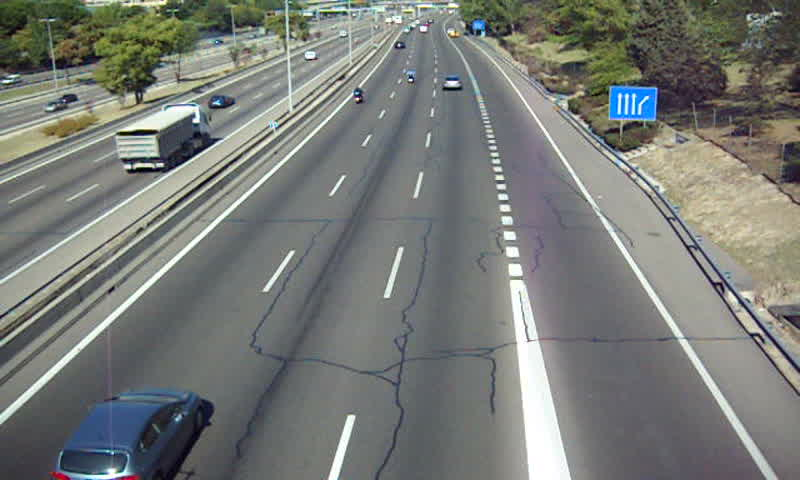car: (54, 388, 202, 480), (441, 75, 463, 91), (394, 42, 406, 51)
motorcycle: (352, 88, 365, 109), (404, 71, 415, 86)
